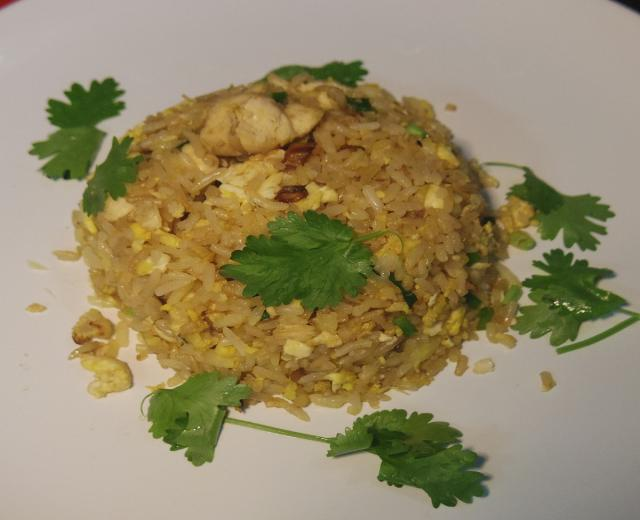fried rice: (19, 14, 609, 520)
